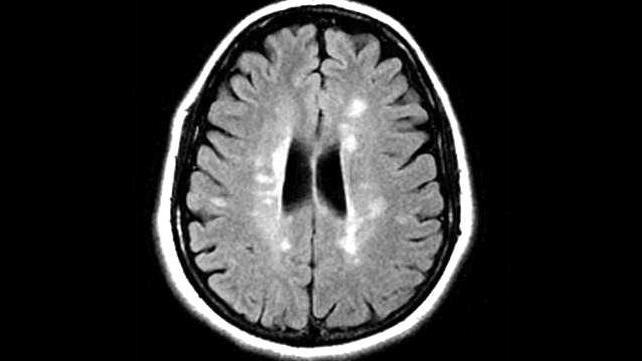Normal_Brain: (119, 1, 612, 361)
